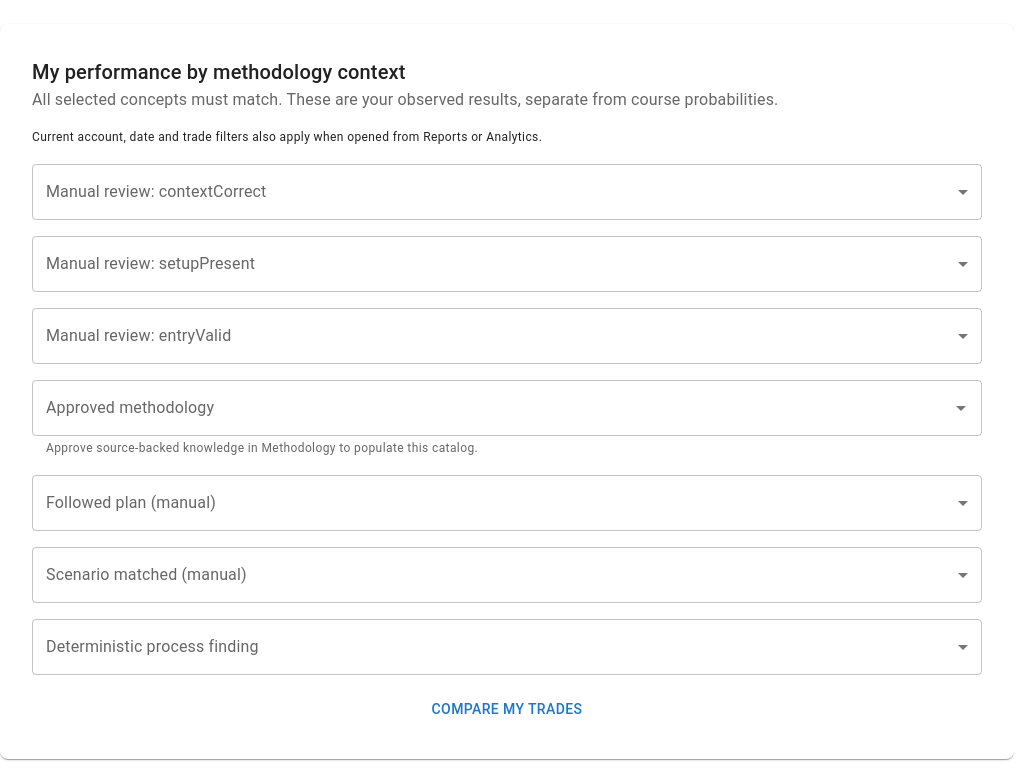
Test: context analytics keeps existing filters, sample counts, currency and R coverage
The width and height of the screenshot is (1024, 768).
Click the button "Compare my trades".
click(507, 709)  # box [32, 691, 982, 727]
(page scrolled)
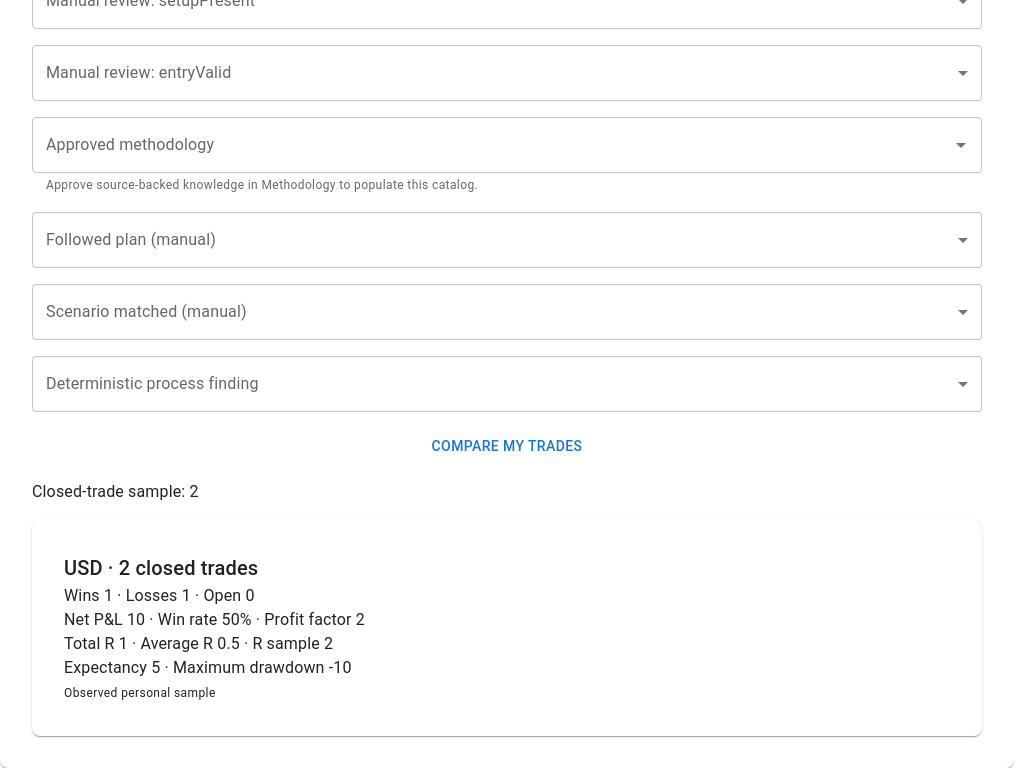
Expected: the text "Closed-trade sample: 2" is shown, [32, 482, 199, 501]
Expected: the heading "USD · 2 closed trades" is shown, [64, 556, 258, 580]
Expected: the text "Total R 1 · Average R 0.5 · R sample 2" is shown, [64, 634, 333, 653]
